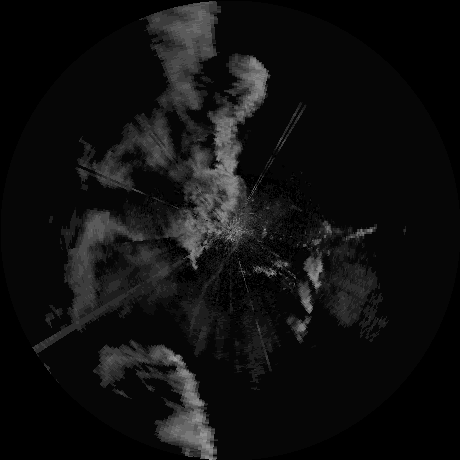frontgust: (187, 241, 238, 326)
